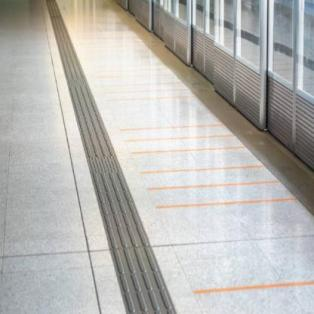Podoctatil: (32, 0, 195, 314)
